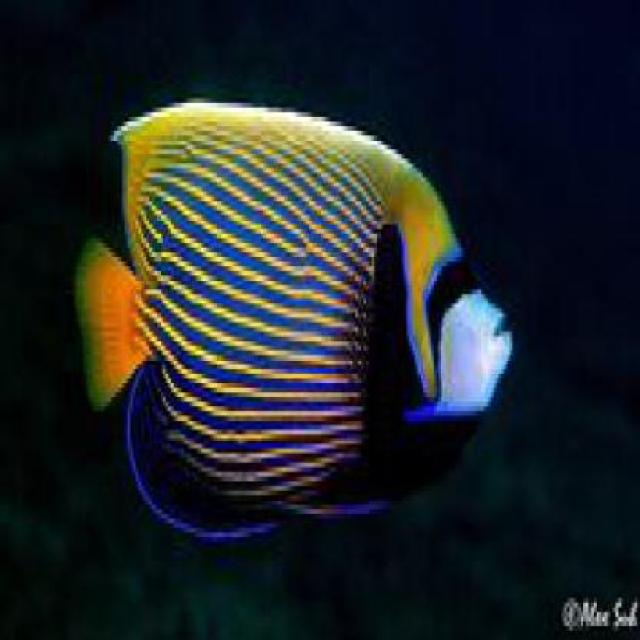AngelFish: (83, 103, 519, 548)
